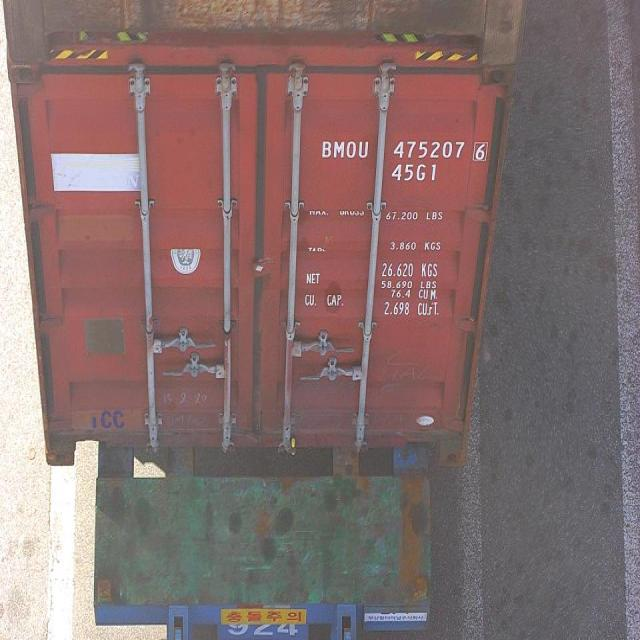ISO: (390, 163, 440, 183)
container_number: (315, 138, 485, 164)
